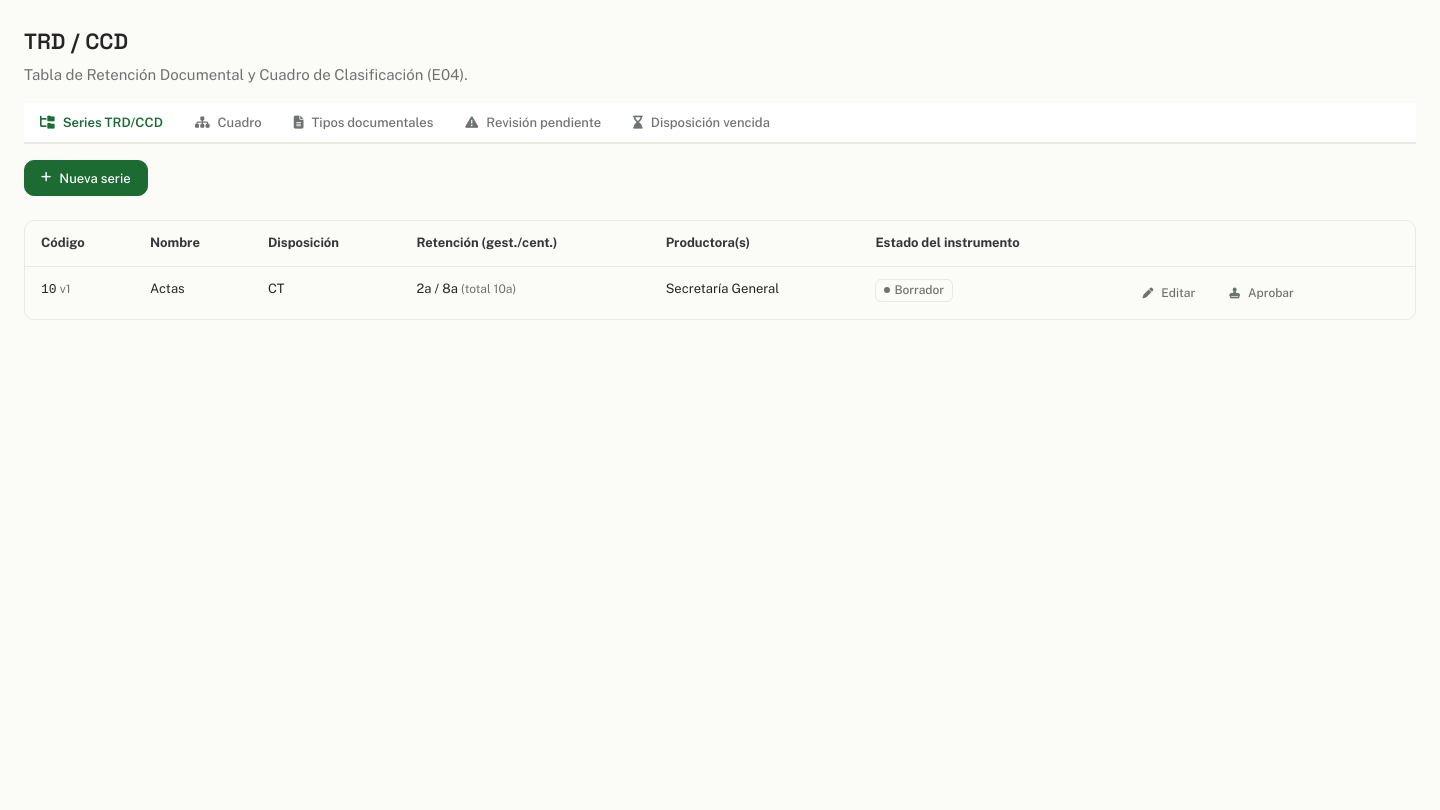
/admin/trd — fases y productoras (C-4) › Nueva serie: sin campos legados, con selector de productoras y total en vivo de solo lectura
Click the 1st button named "Nueva serie": (86, 178) top-left (24, 160), bottom-right (148, 196)
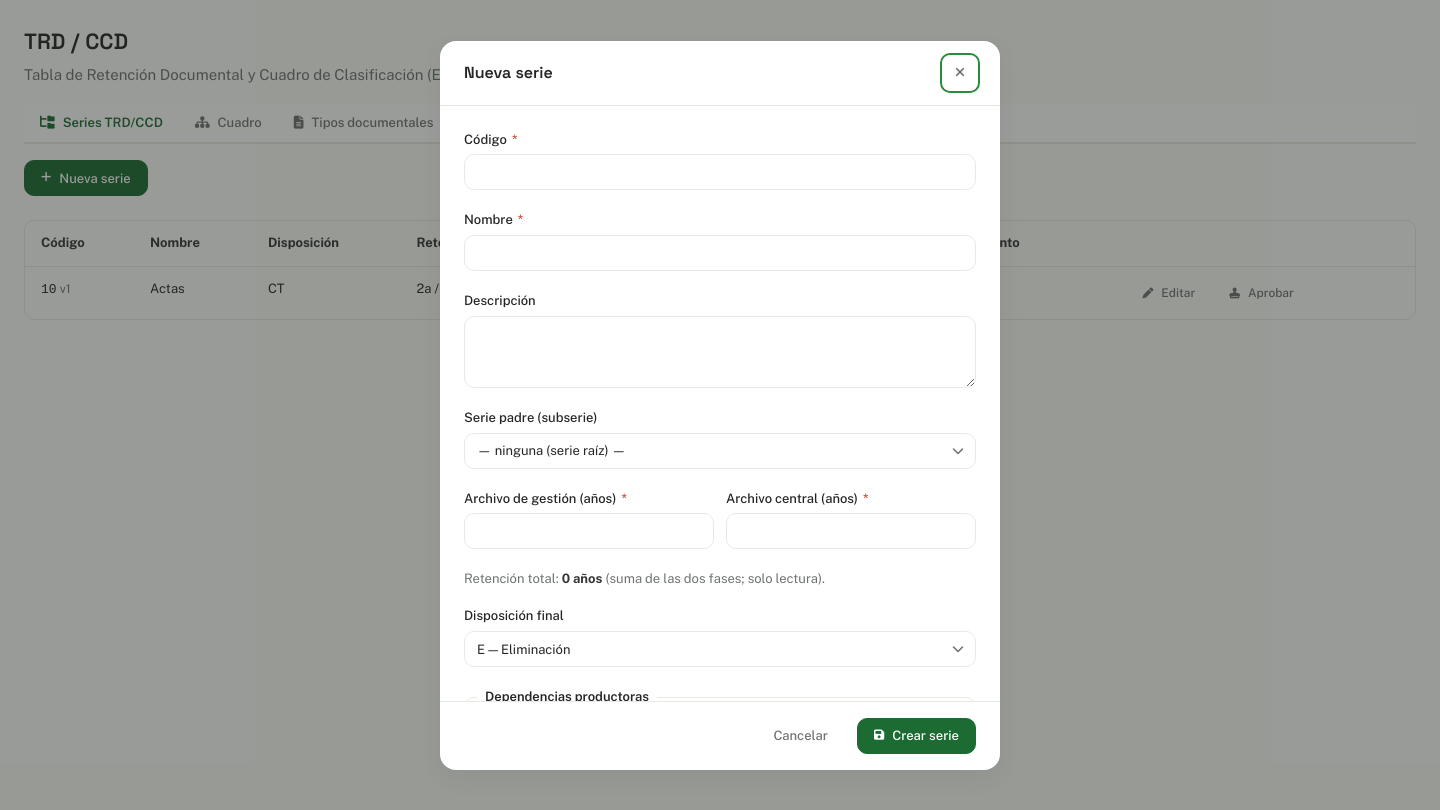
In the number field labelled "Archivo de gestión (años) *": (589, 532) top-left (464, 514), bottom-right (714, 550), type "3"
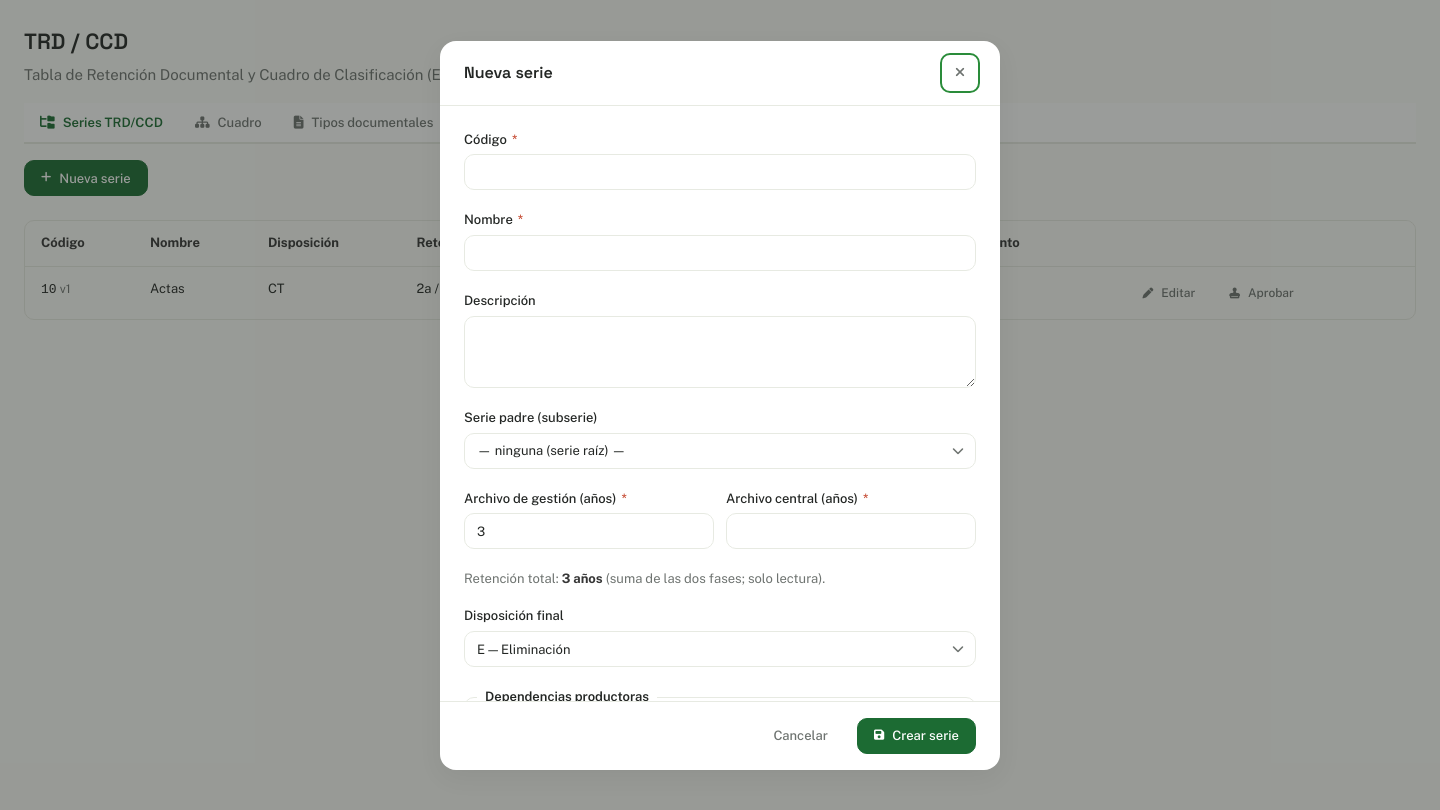
In the number field labelled "Archivo central (años) *": (851, 532) top-left (726, 514), bottom-right (976, 550), type "4"
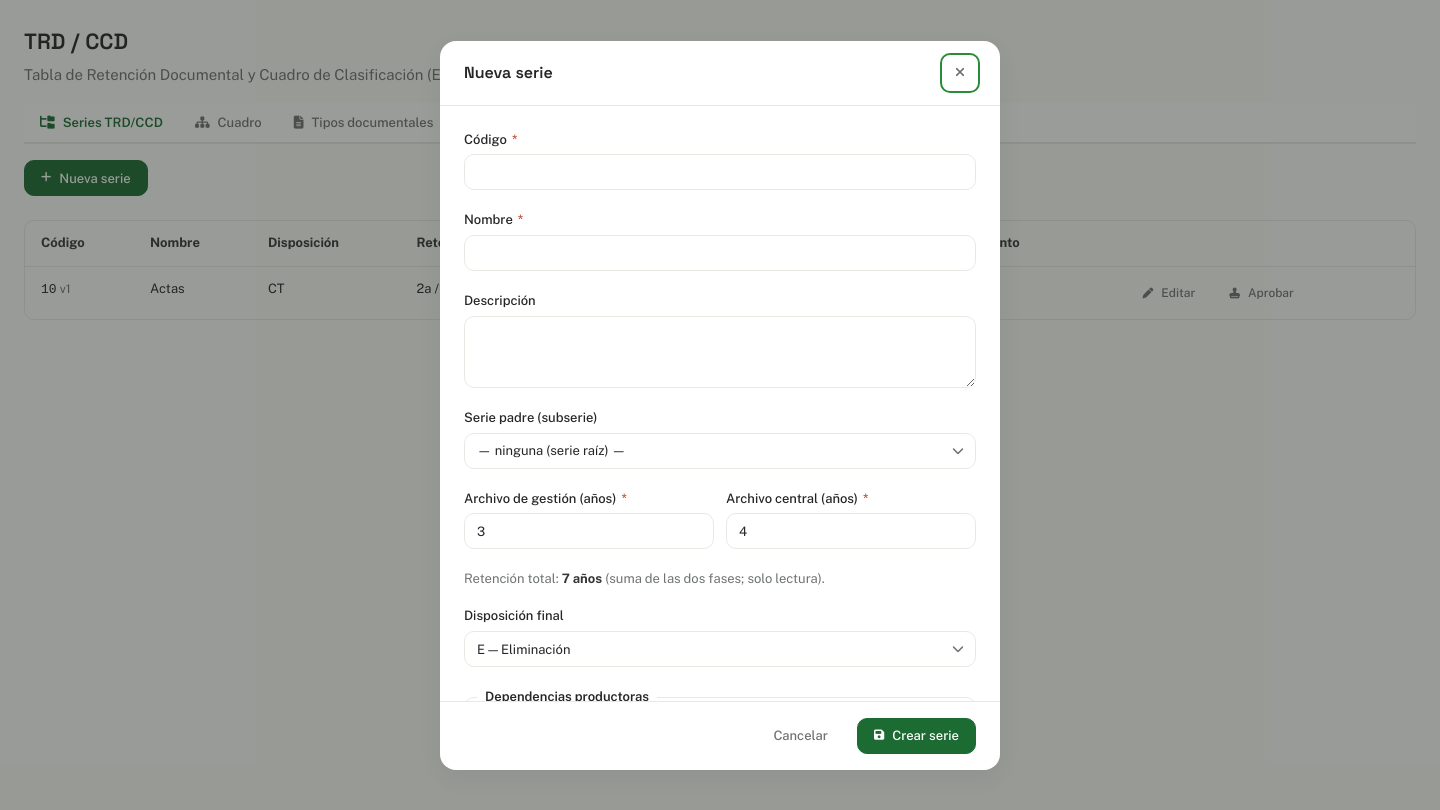
Now the text "7 años" is shown, box top-left (562, 572), bottom-right (602, 586)
